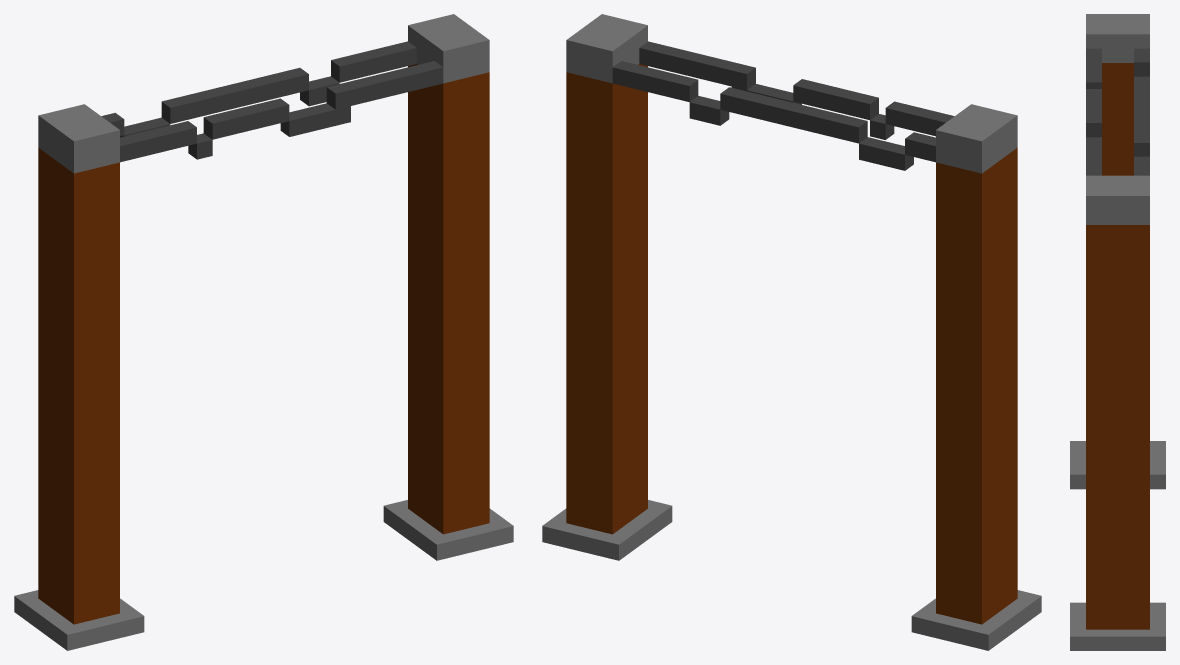
Rendered from power grid.obj.
3 renders of one model, left to right at view 1: azimuth 30°, elevation 25°; view 2: azimuth 150°, elevation 25°; view 3: azimuth 270°, elevation 25°, orthographic. The views are drawn at different scales.
Bounding box in the file's own units: 2.9 × 3.1 × 0.6.
Materials: 1 (1 with a texture image).
